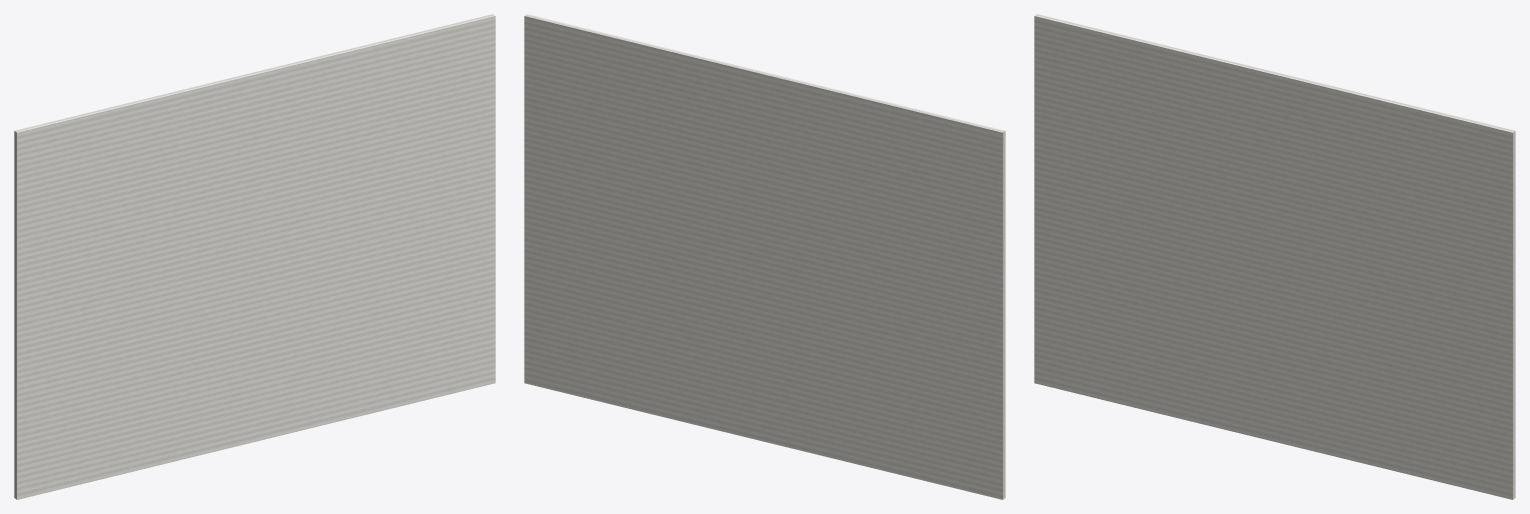
Rendered from z2_nobi_segmento.obj.
3 renders of one model, left to right at view 1: azimuth 30°, elevation 25°; view 2: azimuth 150°, elevation 25°; view 3: azimuth 330°, elevation 25°, orthographic.
Visible parts, largest first — view 1: nobi_segmento; view 2: nobi_segmento; view 3: nobi_segmento.
Boxes of the visible parts, x1,y1,x2,y2 form: nobi_segmento: (14,14,495,499); nobi_segmento: (524,14,1005,499); nobi_segmento: (1034,14,1515,499).
Bounding box in the file's own units: 0.3 × 0.22 × 0.003.
1 material, 1 textured.
